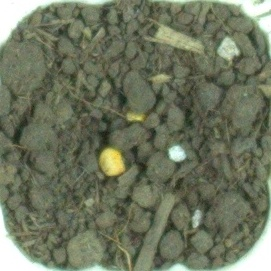pepper seed: (31, 57, 160, 234)
